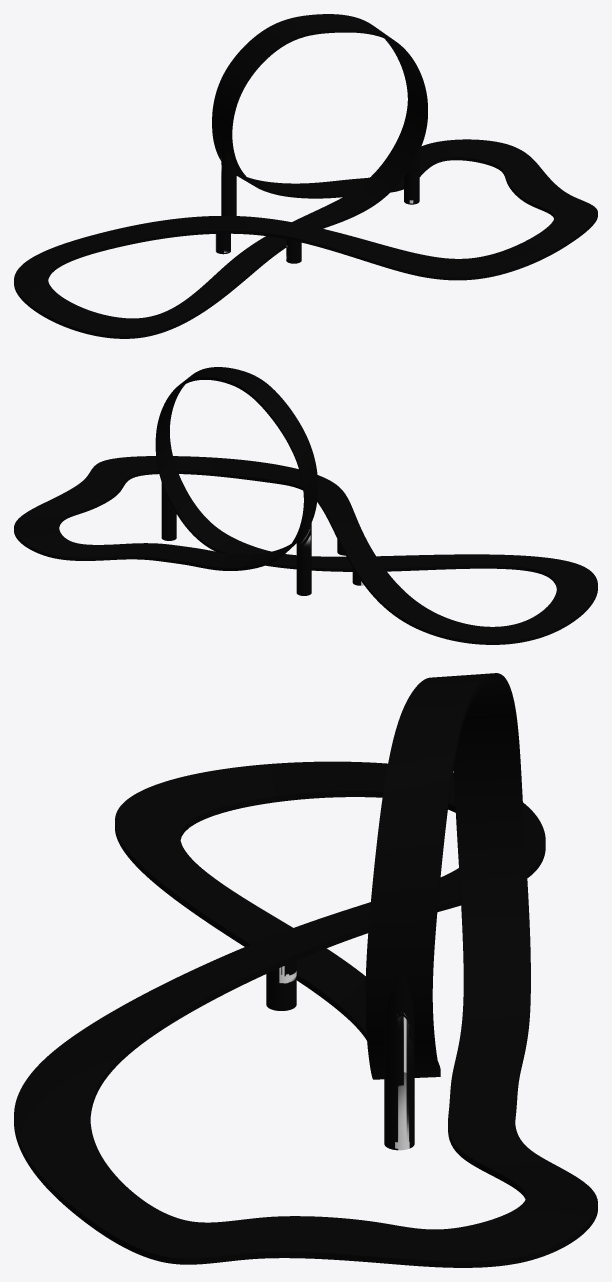
Rendered from racetrack.glb.
3 views of the same model, one above another, from view 1: azimuth 30°, elevation 25°; view 2: azimuth 150°, elevation 25°; view 3: azimuth 270°, elevation 25° (orthographic). The views are drawn at different scales.
Parts seen in each view (by area): view 1: racetrack_v1_obj; view 2: racetrack_v1_obj; view 3: racetrack_v1_obj.
Boxes of the visible parts, box(x1,y1,x2,y2) form: racetrack_v1_obj: box(14, 14, 597, 338); racetrack_v1_obj: box(14, 367, 597, 644); racetrack_v1_obj: box(14, 673, 597, 1267).
Size of the model in its own units: 92.64 by 32.47 by 45.7.
12 materials, 12 textured.
